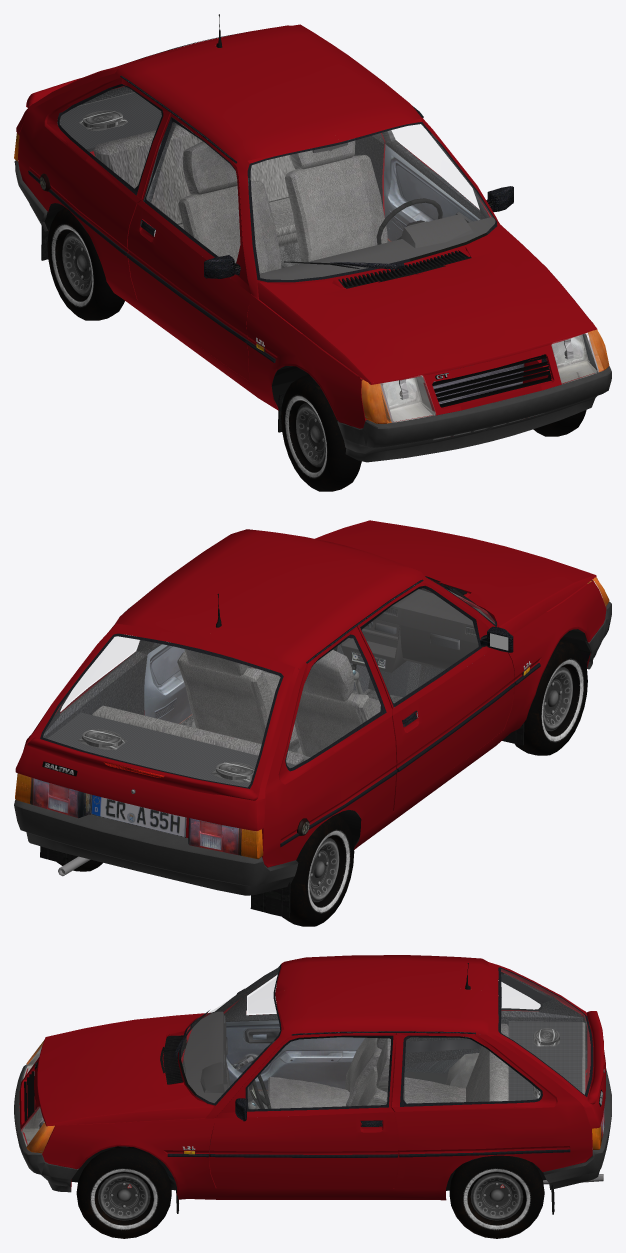
The model's file is uploads_files_2875664_HatchBackLowPoly.fbx.
The picture shows the model from 3 angles, top to bottom: view 1: azimuth 30°, elevation 25°; view 2: azimuth 150°, elevation 25°; view 3: azimuth 270°, elevation 25°; orthographic projection. The views are drawn at different scales.
Visible parts, largest first — view 1: chassis, salon, bonnet_ok, windscreen_ok, door_rf_ok, bump_front_ok, Quad_Wheel.003, door_lf_ok, Quad_Wheel.002, Plane, stekla_far, per_fari (+3 smaller); view 2: chassis, Boot, salon, door_rf_ok, bonnet_ok, bump_rear_ok, Quad_Wheel.002, Quad_Wheel.003, fari_zad, door_lf_ok, brizgov, bump_front_ok; view 3: chassis, door_lf_ok, salon, bonnet_ok, Boot, Quad_Wheel, door_rf_ok, Quad_Wheel.001, windscreen_ok, bump_rear_ok, bump_front_ok, stekla_far (+3 smaller).
Boxes of the visible parts, box(x1,y1,x2,y2) form: chassis: box(18, 14, 603, 428); salon: box(60, 92, 495, 391); bonnet_ok: box(257, 223, 597, 384); windscreen_ok: box(251, 124, 494, 279); door_rf_ok: box(126, 113, 251, 381); bump_front_ok: box(337, 366, 611, 462); Quad_Wheel.003: box(281, 374, 361, 491); door_lf_ok: box(382, 117, 513, 241); Quad_Wheel.002: box(47, 207, 124, 320); Plane: box(423, 344, 561, 415); stekla_far: box(361, 324, 609, 423); per_fari: box(361, 332, 603, 423); chassis: box(43, 529, 606, 867); Boot: box(15, 623, 299, 831); salon: box(47, 589, 495, 787); door_rf_ok: box(357, 582, 514, 811); bonnet_ok: box(315, 520, 596, 634); bump_rear_ok: box(14, 800, 298, 895); Quad_Wheel.002: box(282, 814, 354, 926); Quad_Wheel.003: box(515, 639, 587, 755); fari_zad: box(15, 773, 263, 859); door_lf_ok: box(144, 640, 253, 723); brizgov: box(40, 723, 524, 917); bump_front_ok: box(585, 601, 611, 669); chassis: box(19, 955, 592, 1200); door_lf_ok: box(209, 1033, 398, 1189); salon: box(182, 1011, 585, 1151); bonnet_ok: box(37, 1012, 213, 1126); Boot: box(486, 962, 605, 1128); Quad_Wheel: box(76, 1147, 171, 1238); door_rf_ok: box(223, 973, 364, 1090); Quad_Wheel.001: box(449, 1155, 544, 1238); windscreen_ok: box(181, 968, 279, 1102); bump_rear_ok: box(543, 1068, 611, 1189); bump_front_ok: box(14, 1064, 78, 1192); stekla_far: box(21, 1040, 54, 1153).
Size of the model in its own units: 193 by 171 by 404.
Materials: 33 (27 with a texture image).
